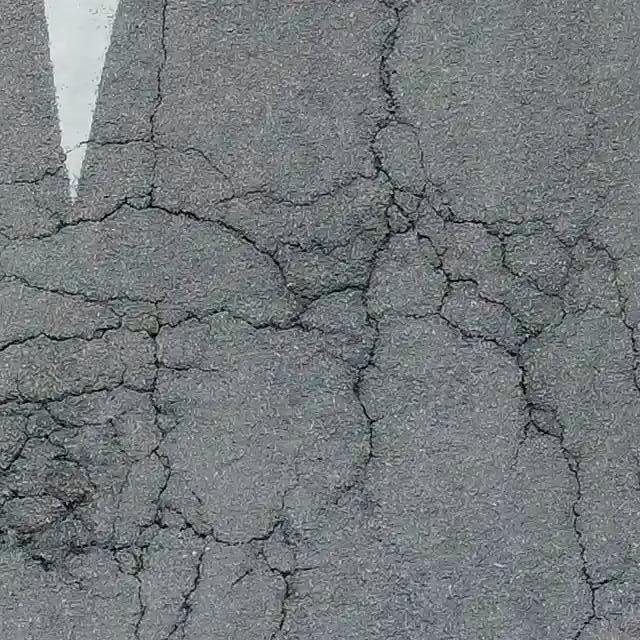GRIETA: (561, 444, 597, 639), (378, 0, 401, 124), (150, 0, 168, 130)
PIEL DE COCODRILO: (0, 121, 639, 639)
